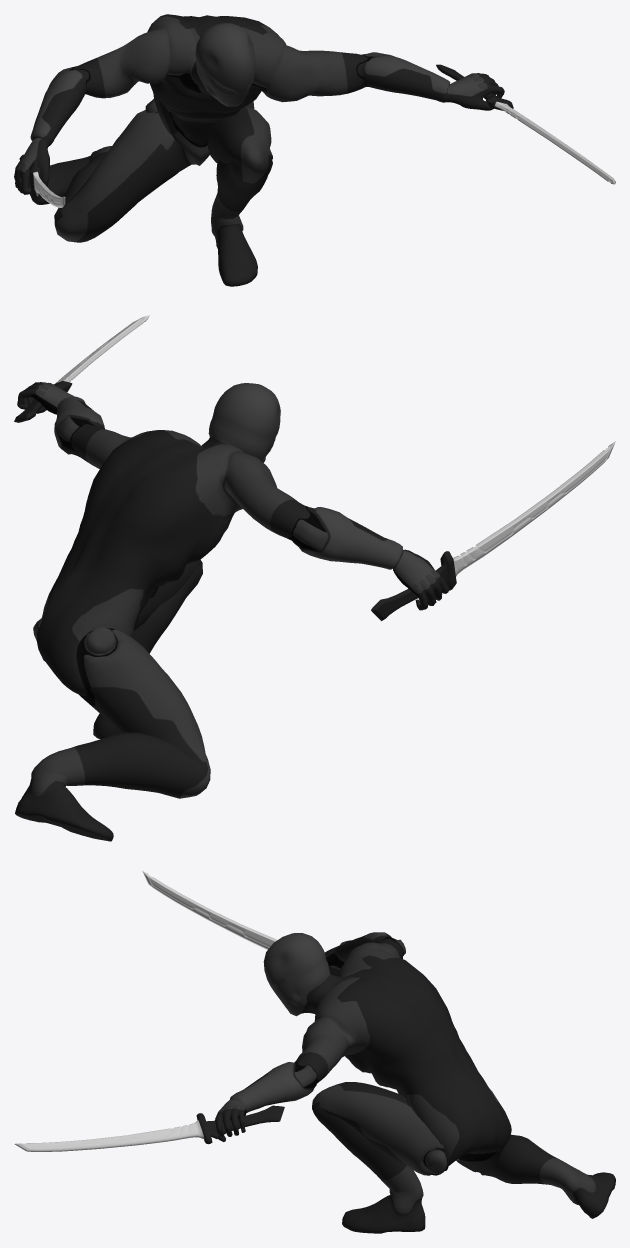
The picture shows the model from 3 angles, top to bottom: view 1: azimuth 30°, elevation 25°; view 2: azimuth 150°, elevation 25°; view 3: azimuth 270°, elevation 25°; orthographic projection. The views are drawn at different scales.
Parts seen in each view (by area): view 1: Cyborg_Ninja_Killer, Sword_l, Sword_l001; view 2: Cyborg_Ninja_Killer, Sword_l001, Sword_l; view 3: Cyborg_Ninja_Killer, Sword_l, Sword_l001.
Boxes of the visible parts, x1,y1,x2,y2 form: Cyborg_Ninja_Killer: (14, 14, 504, 286); Sword_l: (436, 64, 615, 184); Sword_l001: (19, 154, 65, 207); Cyborg_Ninja_Killer: (15, 382, 448, 841); Sword_l001: (371, 441, 615, 621); Sword_l: (14, 315, 149, 422); Cyborg_Ninja_Killer: (215, 932, 615, 1233); Sword_l: (14, 1105, 284, 1151); Sword_l001: (142, 870, 340, 976).
Size of the model in its own units: 173 by 96.48 by 196.
2 materials, 2 textured.
